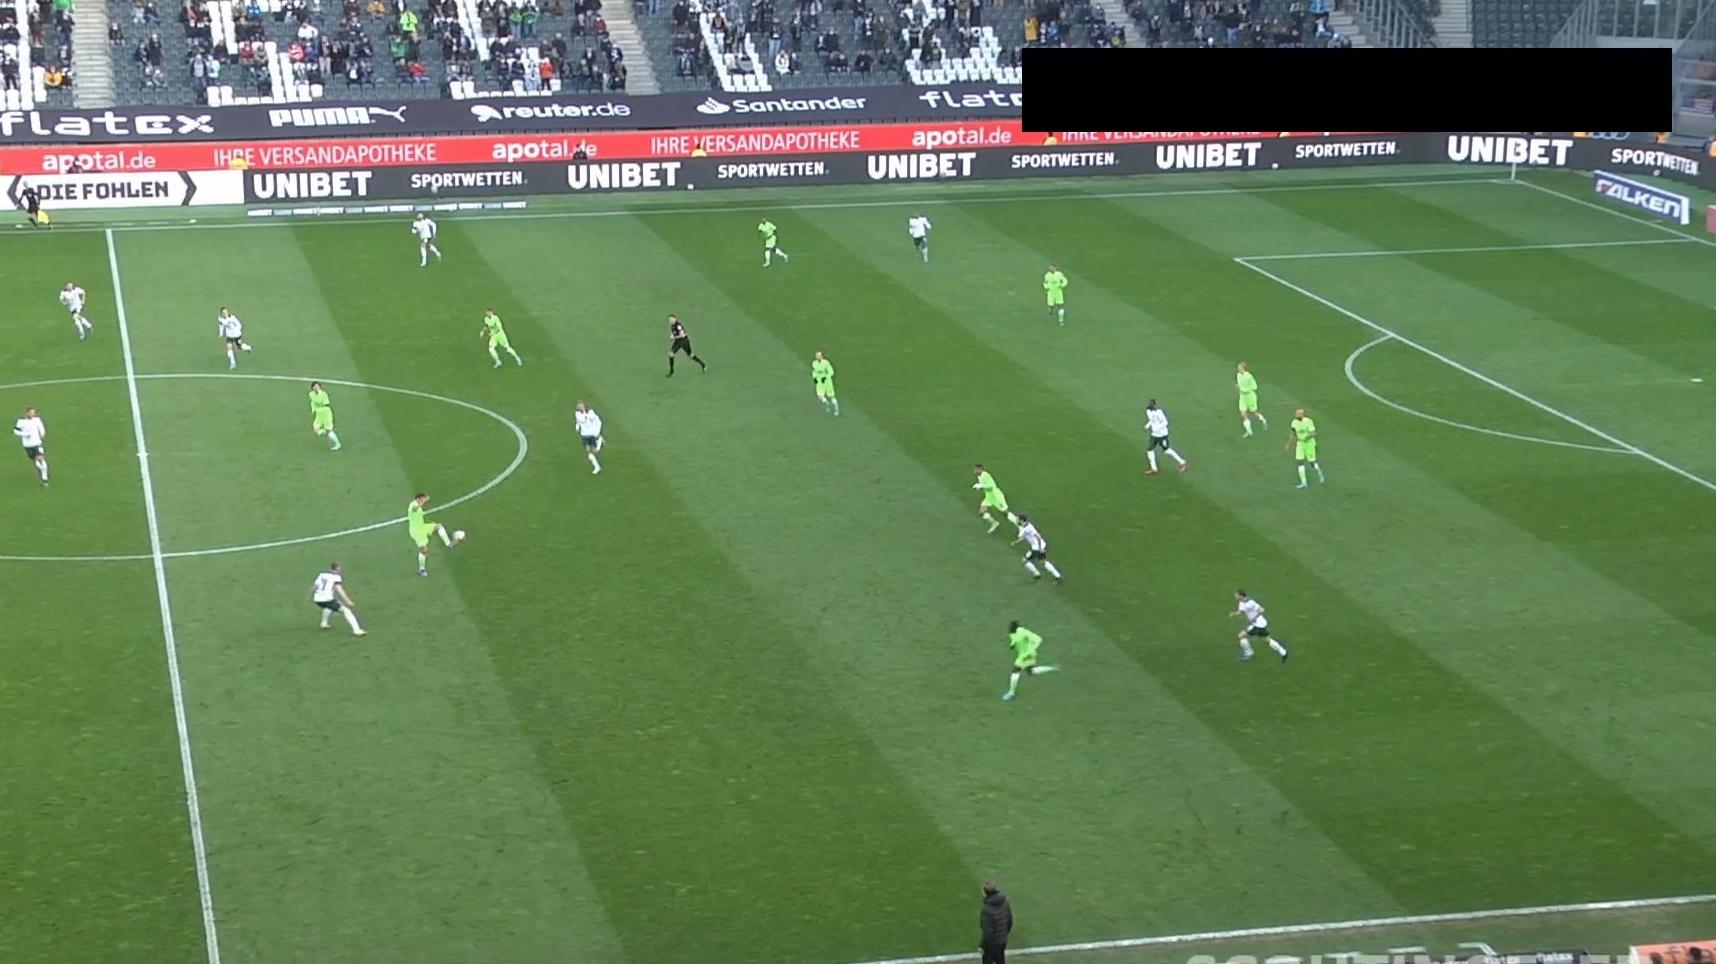ball: (453, 529, 467, 542)
